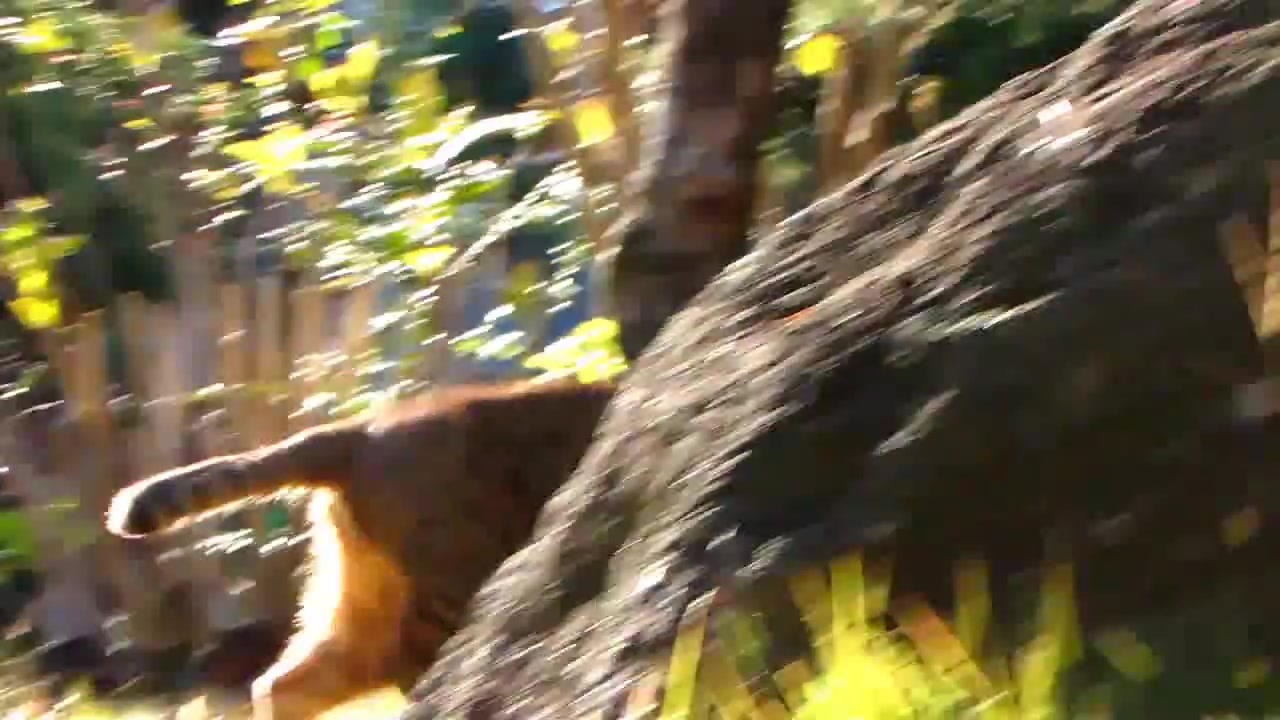cat: (107, 379, 617, 720)
